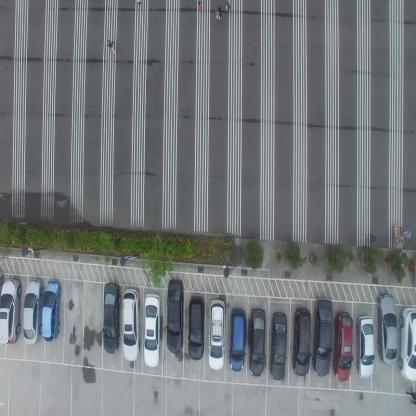car: (312, 295, 332, 376), (0, 278, 22, 347), (376, 292, 397, 364), (333, 310, 353, 382), (23, 277, 44, 345), (292, 306, 312, 376), (398, 306, 416, 383), (166, 278, 184, 353), (143, 292, 161, 367), (122, 288, 140, 363), (208, 297, 226, 370), (42, 279, 62, 343), (103, 283, 121, 354), (270, 311, 288, 381), (356, 314, 375, 378), (249, 307, 266, 377), (228, 305, 245, 372), (188, 294, 205, 360)
